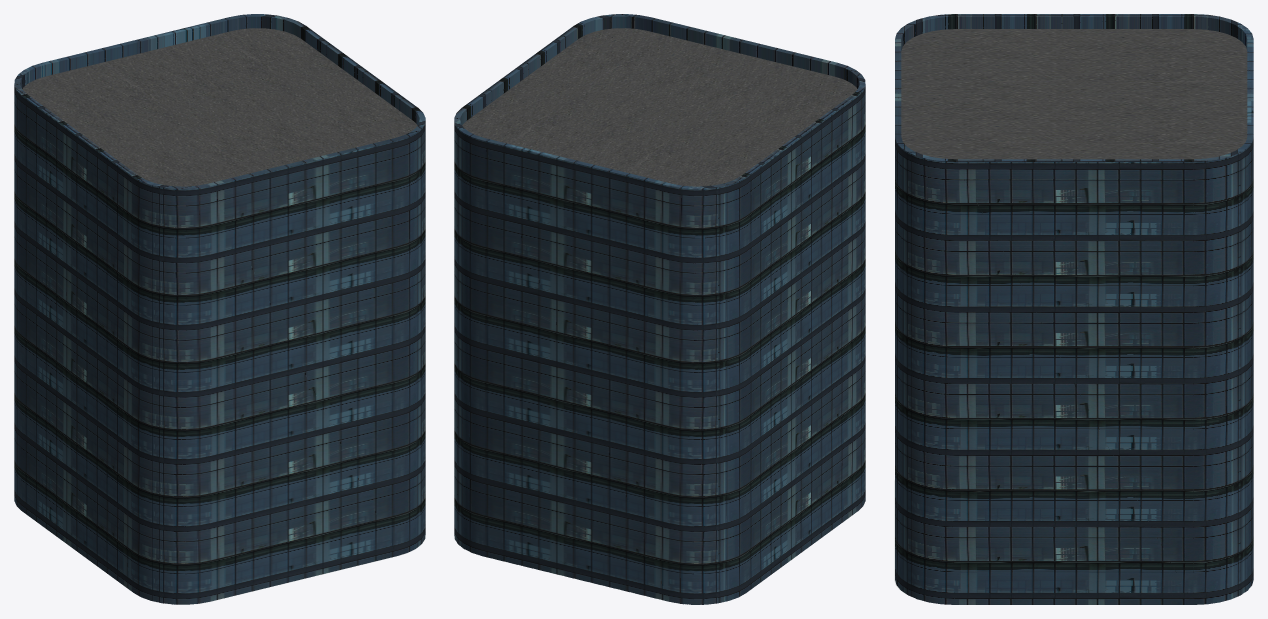
3 renders of one model, left to right at view 1: azimuth 30°, elevation 25°; view 2: azimuth 150°, elevation 25°; view 3: azimuth 270°, elevation 25°, orthographic. The views are drawn at different scales.
Parts seen in each view (by area): view 1: 立方体.3187, 立方体.3190; view 2: 立方体.3187, 立方体.3190; view 3: 立方体.3187, 立方体.3190.
Boxes of the visible parts, x1,y1,x2,y2 form: 立方体.3187: (14, 14, 425, 604); 立方体.3190: (22, 28, 417, 186); 立方体.3187: (454, 14, 865, 604); 立方体.3190: (462, 28, 857, 186); 立方体.3187: (895, 14, 1253, 604); 立方体.3190: (901, 29, 1247, 159).
Bounding box in the file's own units: 126 × 177 × 130.
3 materials, 2 textured.
